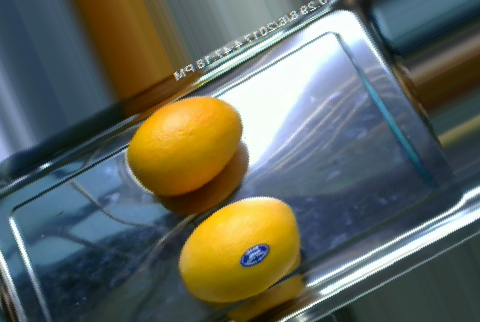Orange: (177, 194, 300, 301), (127, 94, 242, 196)
